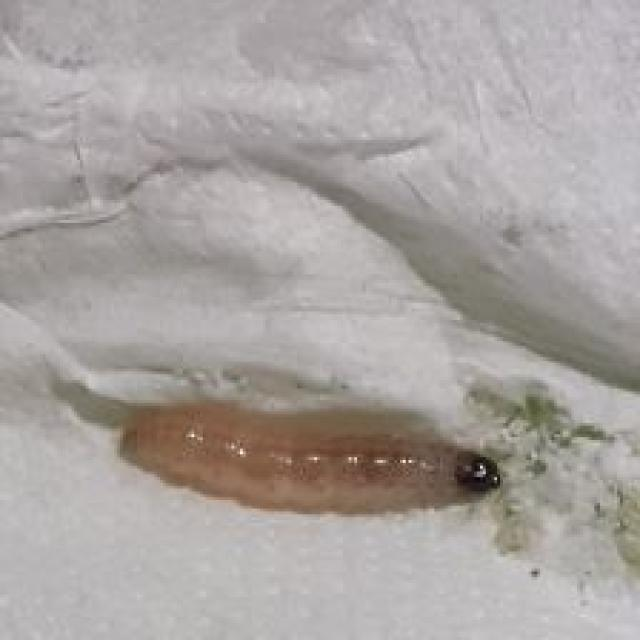white mucus: (108, 402, 523, 534)
